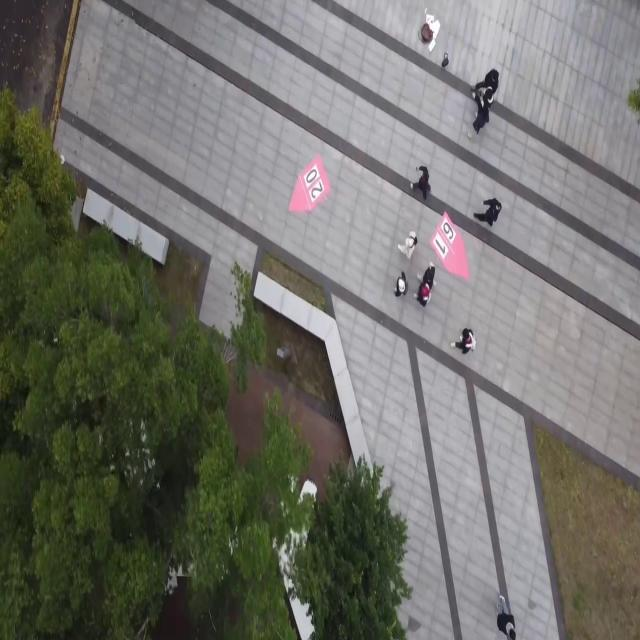-sign-: (430, 210, 470, 282), (287, 153, 331, 214)
